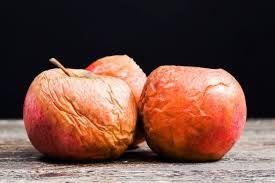Apple: (22, 68, 137, 164), (138, 64, 248, 164)
